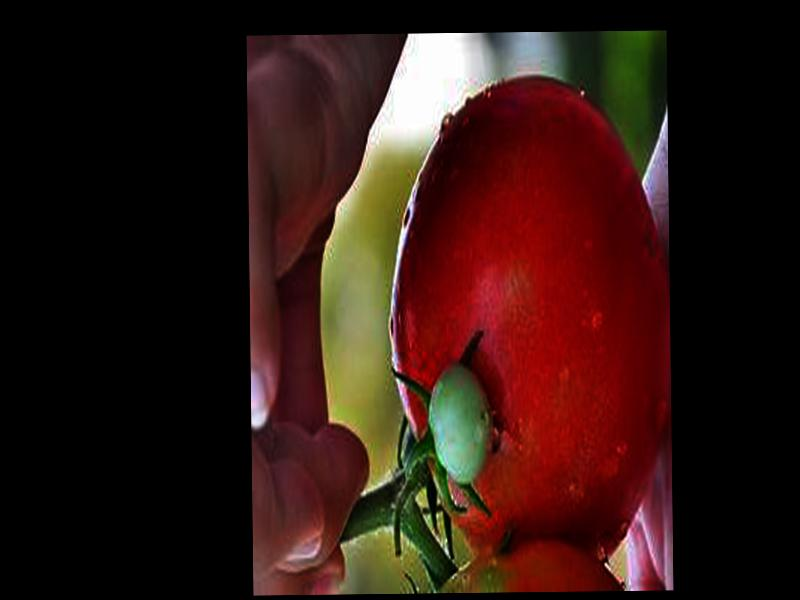Tomato: (386, 76, 673, 560)
